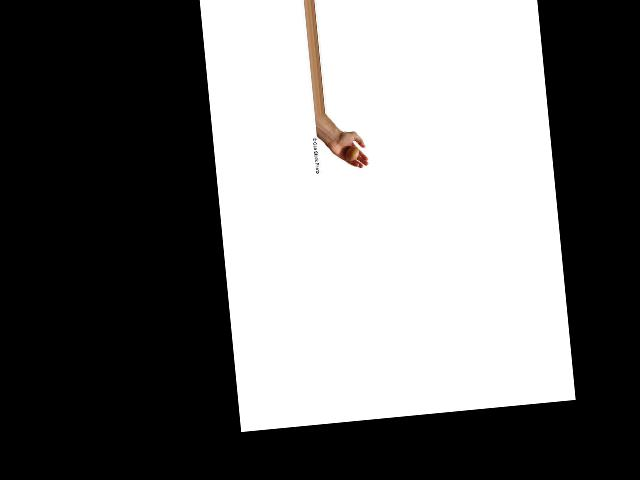egg: (344, 147, 359, 161)
